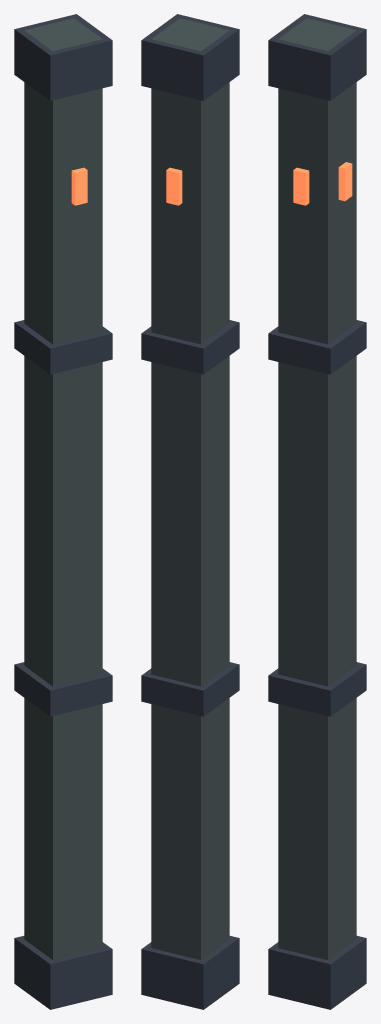
File: Lab_WallEnd.fbx
The picture shows the model from 3 angles, left to right: view 1: azimuth 30°, elevation 25°; view 2: azimuth 150°, elevation 25°; view 3: azimuth 330°, elevation 25°; orthographic projection.
Parts seen in each view (by area): view 1: Lab_WallEnd; view 2: Lab_WallEnd; view 3: Lab_WallEnd.
Boxes of the visible parts, bbox=[...] form: Lab_WallEnd: bbox=[14, 14, 112, 1009]; Lab_WallEnd: bbox=[141, 14, 239, 1009]; Lab_WallEnd: bbox=[268, 14, 366, 1009].
Bounding box in the file's own units: 0.2 × 2.93 × 0.2.
